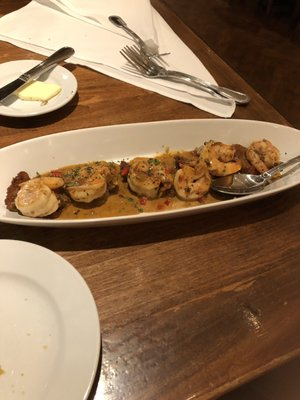burger: (111, 14, 248, 105), (111, 43, 249, 105), (211, 154, 300, 195)
salad: (210, 154, 300, 195)
sandwich: (0, 47, 75, 103)
sushi: (0, 239, 103, 400)
